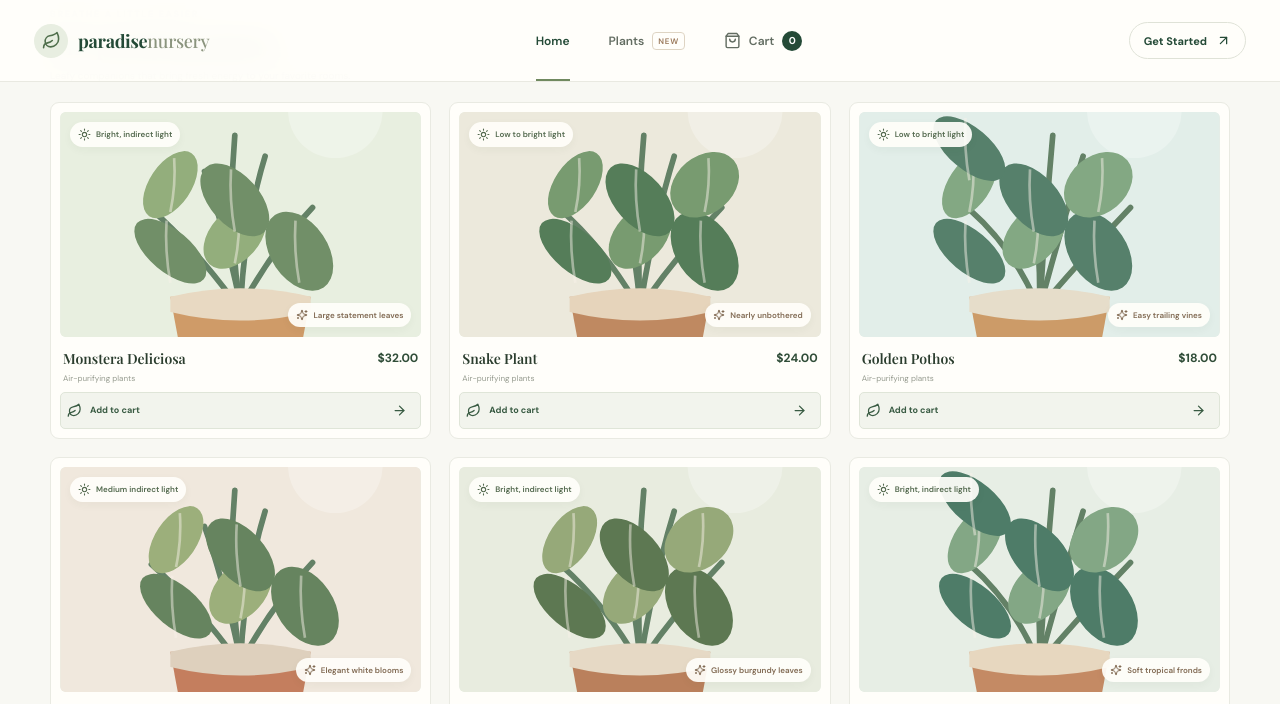
it: Paradise Nursery shopping flow › shows checkout Coming Soon feedback and keeps Continue Shopping available
This screenshot has width=1280, height=704.
(page scrolled)
Click the button with aria-label "Add Snake Plant to cart": (514, 410) [459,392,821,429]
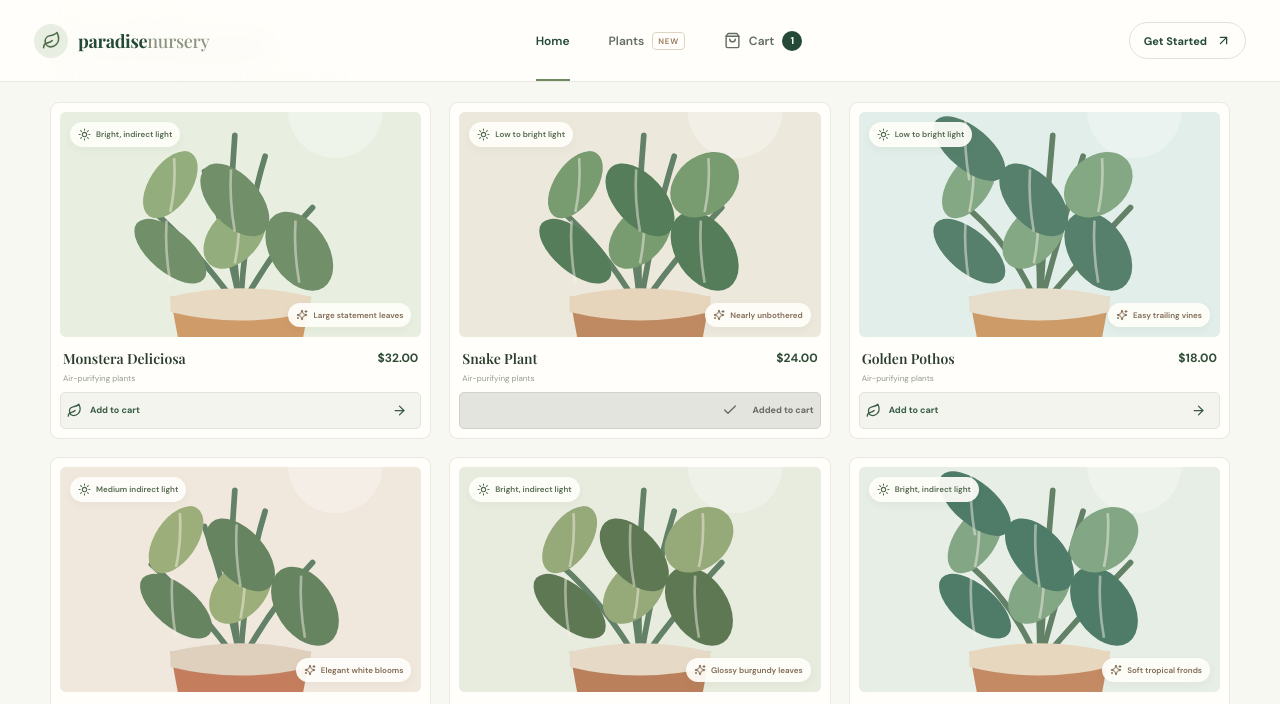
Click the link with aria-label "Cart, 1 items": (763, 40) [724,30,802,50]
(page scrolled)
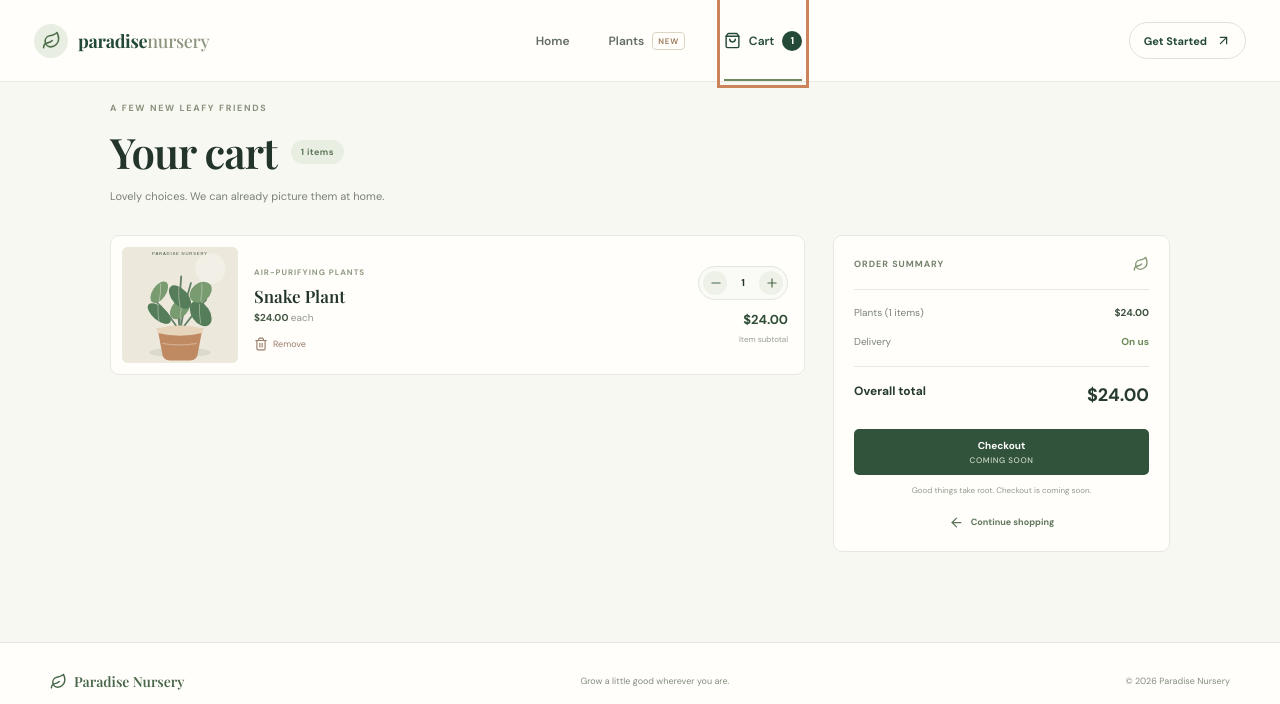
Expected: the button "Checkout Coming Soon" is enabled
Click the button "Checkout Coming Soon": (1002, 452) [854,429,1149,475]
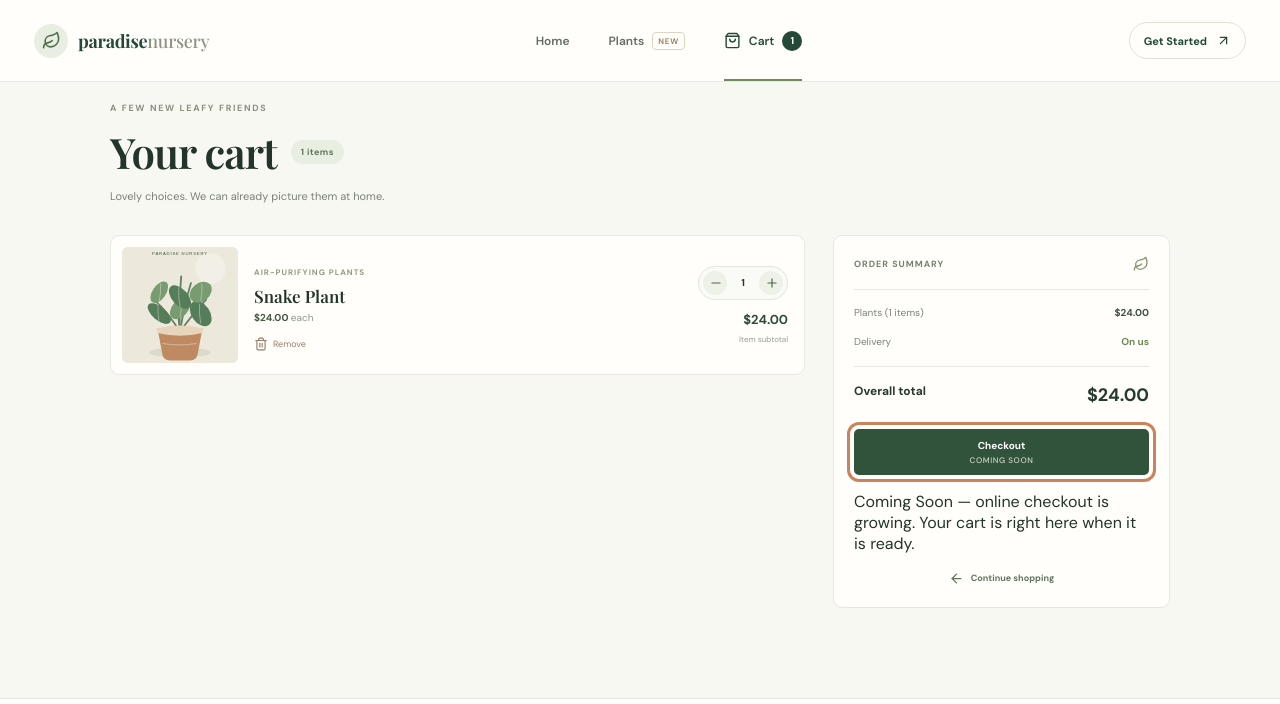
Expected: the message shows "Coming Soon", [854,491,1136,554]
Click the button "Continue shopping": (1001, 578) [943,570,1060,587]
(page scrolled)
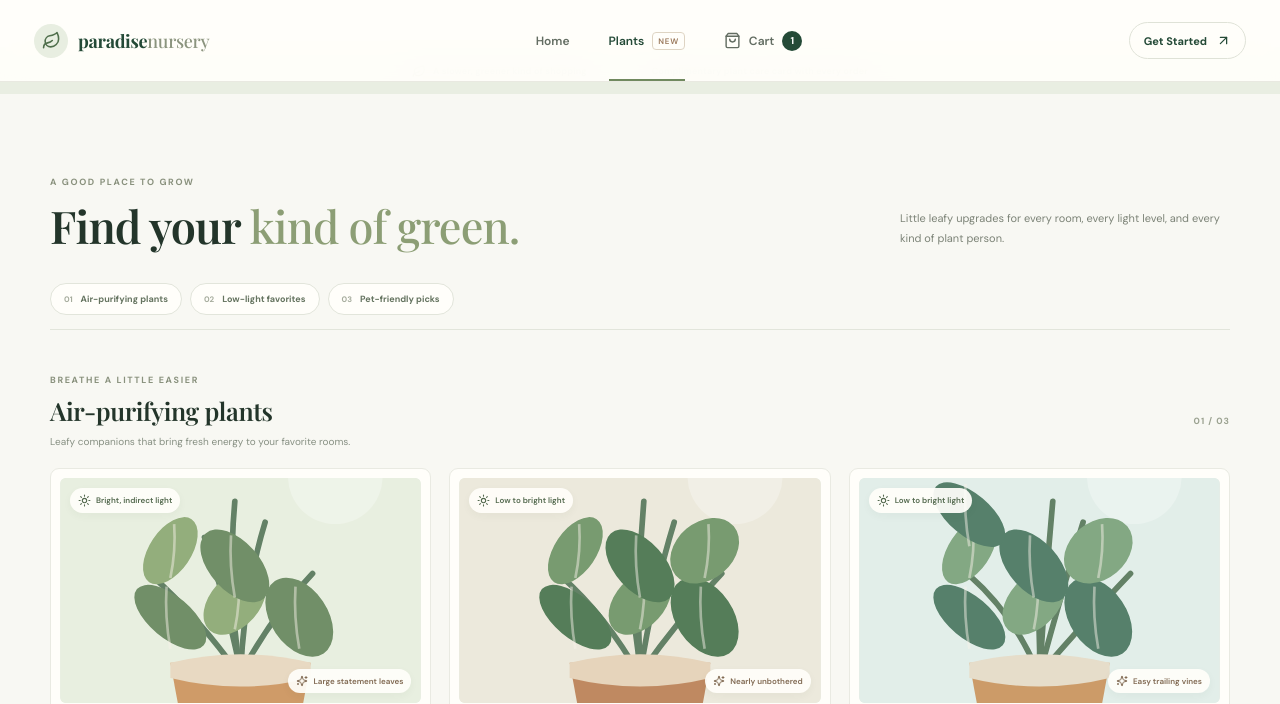
Expected: the heading "Air-purifying plants" is shown, [50,394,273,427]
